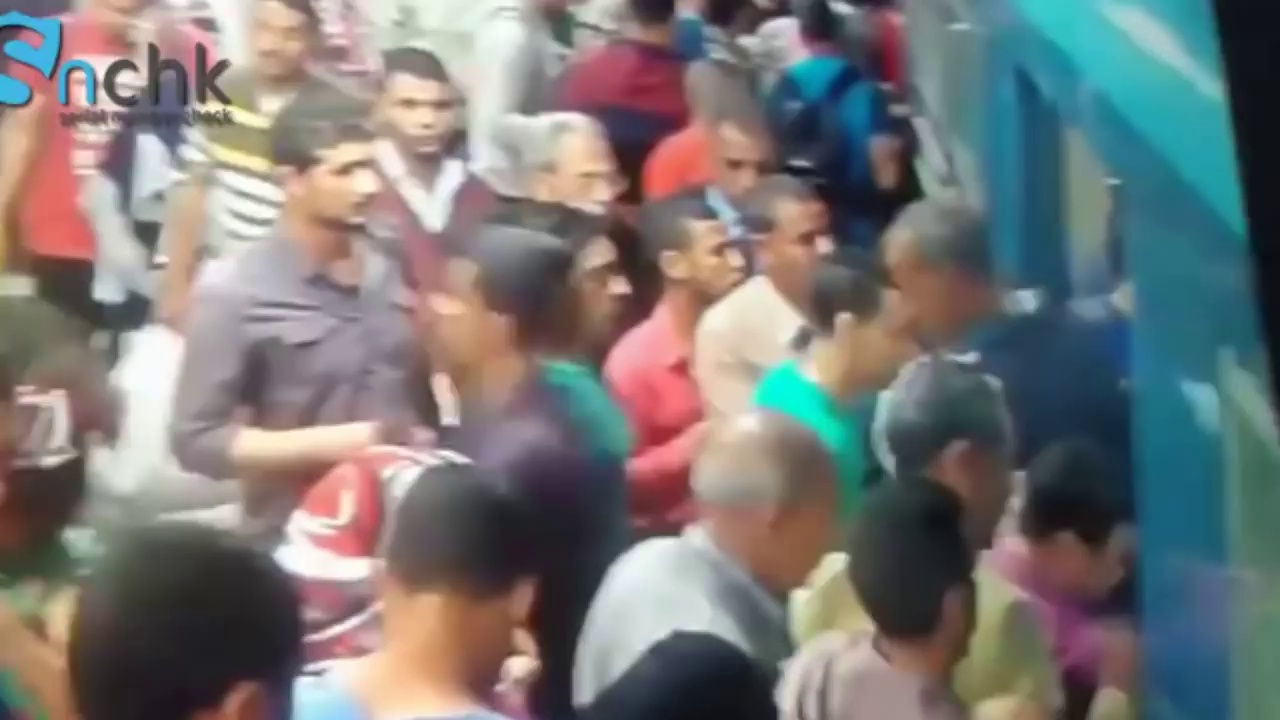face: (381, 81, 463, 157), (308, 151, 381, 230), (681, 218, 748, 291), (777, 207, 832, 274)
